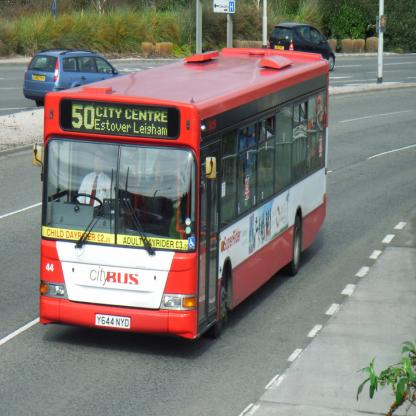Car: (27, 44, 139, 94), (273, 29, 338, 75)
